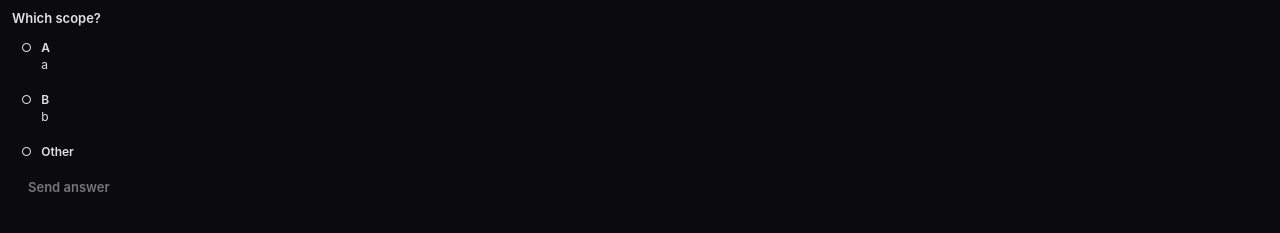
it: QuestionCard › links to the Terminal tab after an error result
Expected: the text "Which scope?" is shown, 12,10 -> 101,26
Click the radio button labelled "○ A a".
click(27, 48)  # box 12,32 -> 1268,80
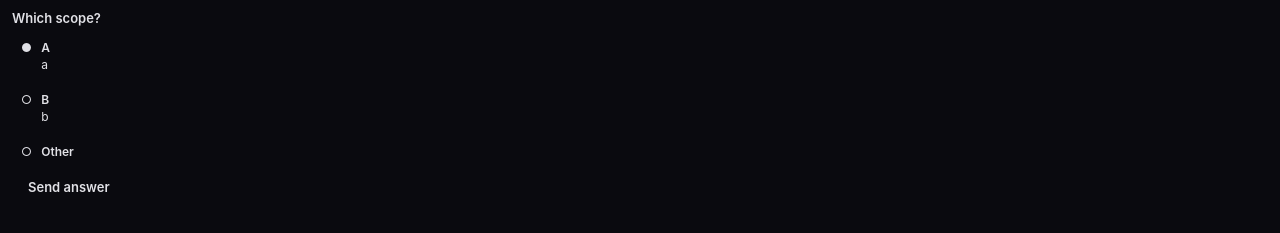
Click the button "Send answer".
click(69, 187)  # box 12,179 -> 126,195
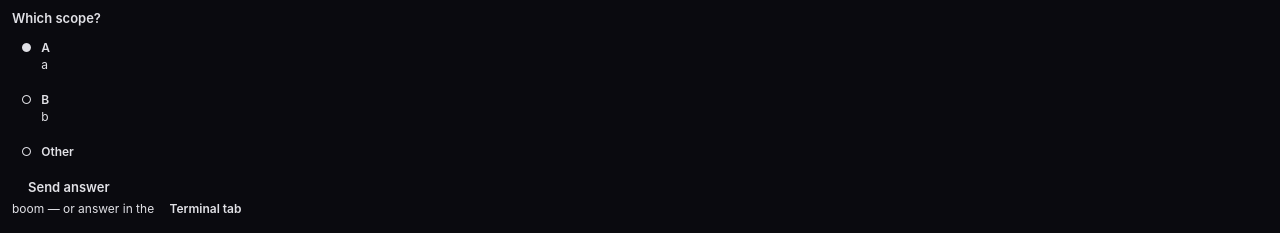
Expected: the text "boom" is shown, 12,201 -> 44,216
